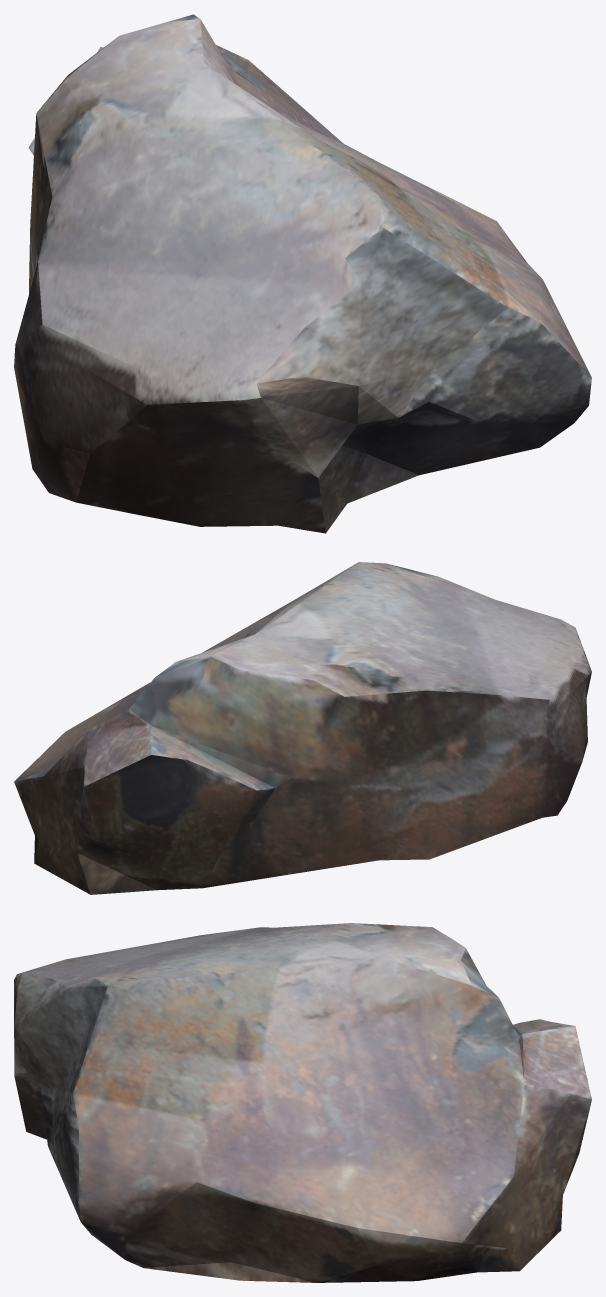
File: rock.fbx
3 views of the same model, one above another, from view 1: azimuth 30°, elevation 25°; view 2: azimuth 150°, elevation 25°; view 3: azimuth 270°, elevation 25° (orthographic). The views are drawn at different scales.
Parts seen in each view (by area): view 1: Rock:mainMeshNode_0_LOD5_0_0; view 2: Rock:mainMeshNode_0_LOD5_0_0; view 3: Rock:mainMeshNode_0_LOD5_0_0.
Boxes of the visible parts, x1,y1,x2,y2 form: Rock:mainMeshNode_0_LOD5_0_0: (14, 14, 591, 533); Rock:mainMeshNode_0_LOD5_0_0: (14, 562, 591, 894); Rock:mainMeshNode_0_LOD5_0_0: (14, 923, 591, 1282).
Bounding box in the file's own units: 0.0956 × 0.0474 × 0.1058.
